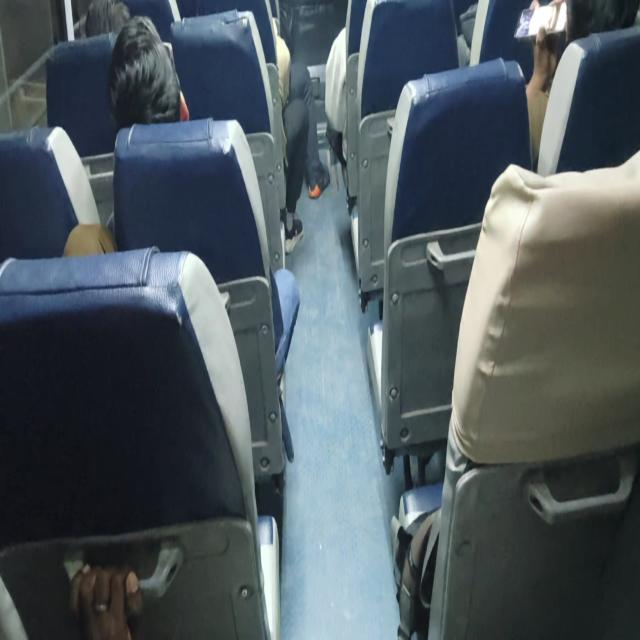person: (63, 14, 300, 460), (189, 0, 330, 254), (62, 14, 190, 257), (524, 0, 638, 165), (107, 14, 190, 128), (68, 561, 144, 638)
